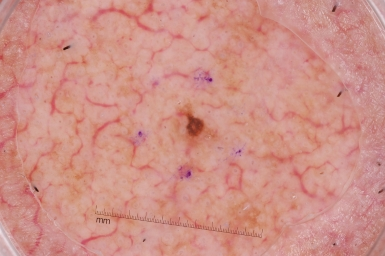seborrheic keratosis: (167, 97, 219, 150)
